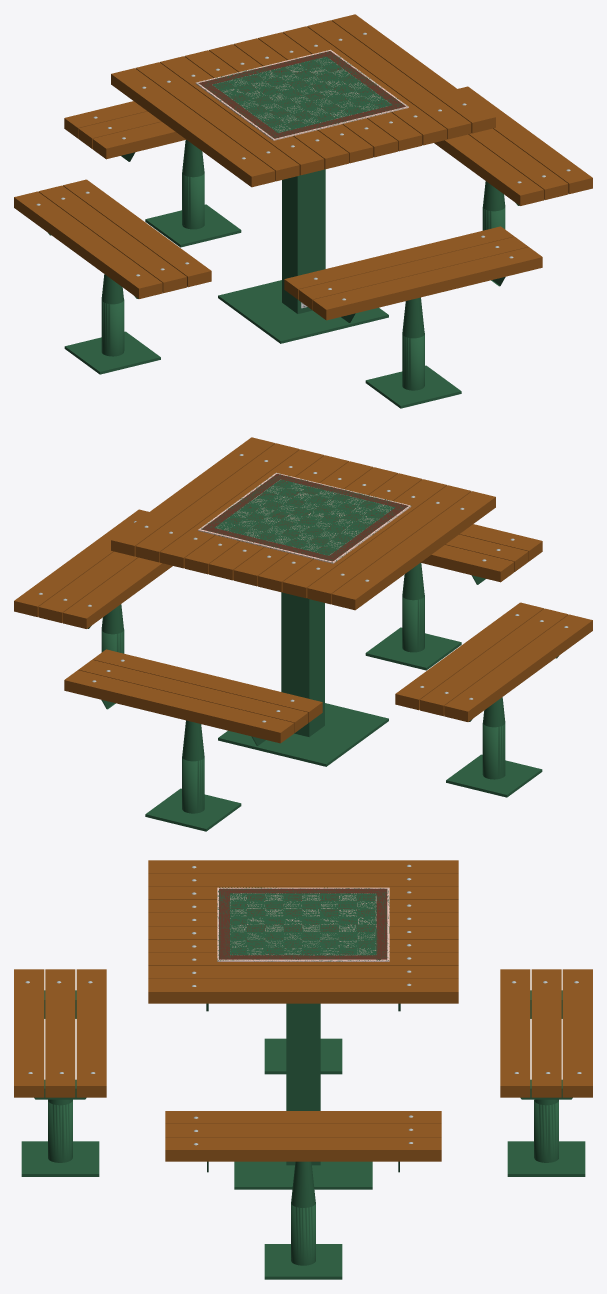
File: chess tables.dae
3 renders of one model, top to bottom at view 1: azimuth 30°, elevation 25°; view 2: azimuth 150°, elevation 25°; view 3: azimuth 270°, elevation 25°, orthographic. The views are drawn at different scales.
Visible parts, largest first — view 1: IP-2 (×31), group_0 (×3); view 2: IP-2 (×31), group_0 (×3); view 3: IP-2 (×28), group_0 (×3).
Part boxes in pixels (x1,y1,x2,y2): IP-2 (×31): (14,14,592,408); group_0 (×3): (195,49,408,140); IP-2 (×31): (14,437,592,831); group_0 (×3): (198,472,411,563); IP-2 (×28): (14,860,592,1279); group_0 (×3): (217,887,389,961).
Bounding box in the file's own units: 67.12 × 67.12 × 30.15.
